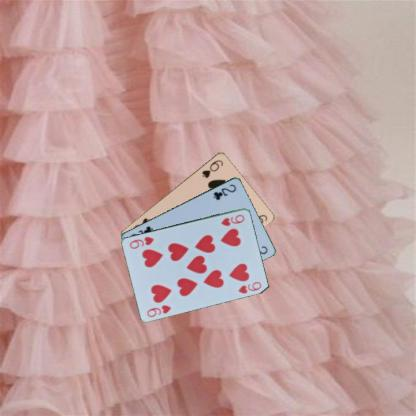2c: (211, 181, 237, 201)
6s: (199, 157, 224, 179)
9h: (144, 302, 173, 318), (218, 212, 246, 227)
